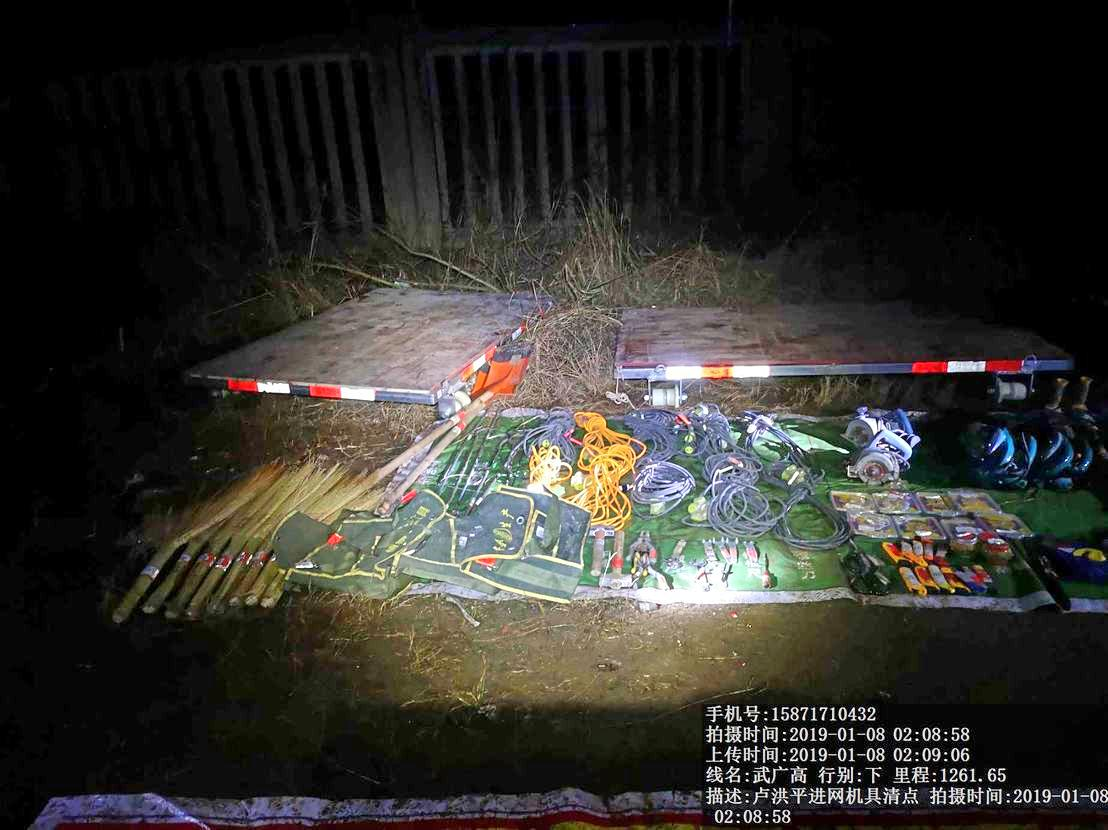DX: (685, 447, 775, 541), (731, 398, 824, 469), (574, 445, 642, 532)
GFJ: (950, 401, 1016, 488)
GJB: (460, 483, 594, 604), (287, 506, 403, 599)
SB: (122, 468, 270, 620)
TQ: (422, 343, 528, 443)
